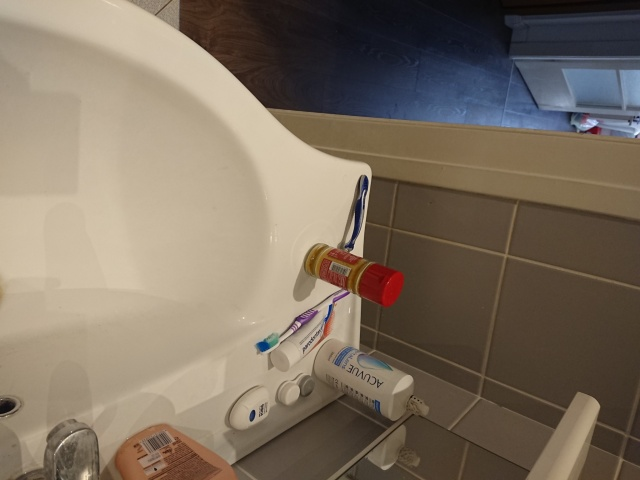Kotanyi Curry Spices Mix 70g: (301, 240, 407, 310)
